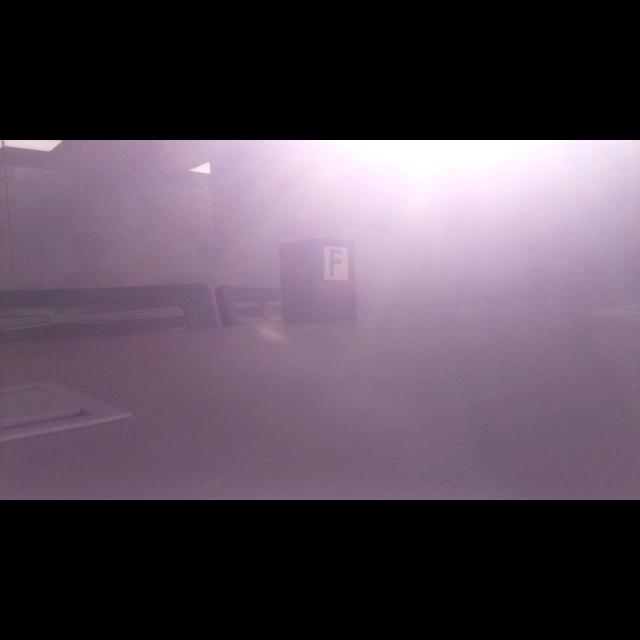F: (329, 249, 343, 277)
